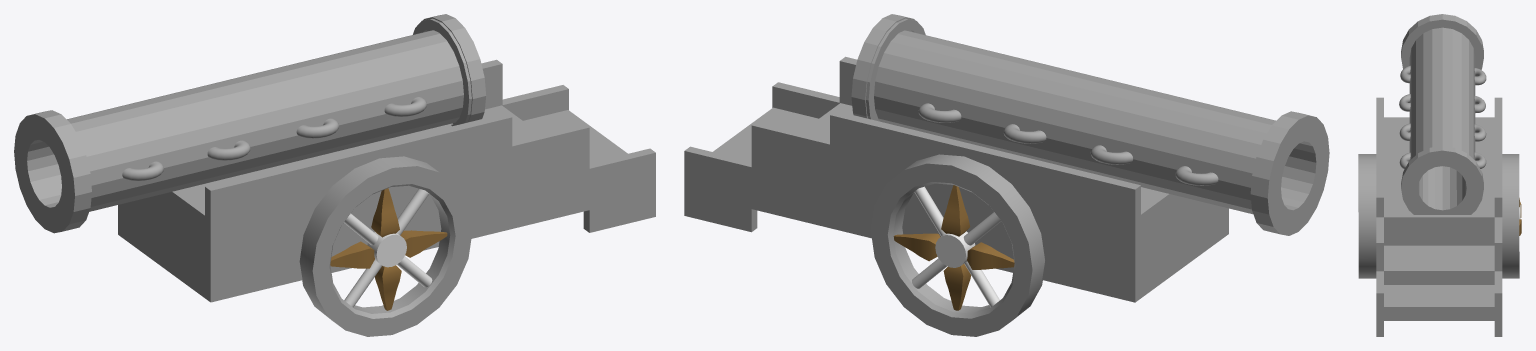
Rendered from Meriam.fbx.
3 views of the same model, side by side, from view 1: azimuth 30°, elevation 25°; view 2: azimuth 150°, elevation 25°; view 3: azimuth 270°, elevation 25° (orthographic). The views are drawn at different scales.
Visible parts, largest first — view 1: pCube1, pPipe1, pPipe4, pPipe2, pCube2, pCube5, pCube6, pCube3, pPipe9, pTorus7, pTorus6, pPipe5 (+2 smaller); view 2: pCube1, pPipe1, pPipe11, pPipe12, pCube7, pCube10, pCube9, pCube8, pTorus1, pTorus3, pTorus4, pPipe13 (+3 smaller); view 3: pCube1, pPipe1, pPipe4, pPipe11, pTorus1, pTorus7, pTorus3, pTorus6, pTorus2, pTorus8, pTorus4.
Part boxes in pixels (bbox=[...]): pCube1: bbox=[118, 59, 655, 302]; pPipe1: bbox=[14, 14, 486, 233]; pPipe4: bbox=[299, 156, 472, 336]; pPipe2: bbox=[367, 232, 406, 267]; pCube2: bbox=[371, 188, 399, 237]; pCube5: bbox=[330, 241, 374, 268]; pCube6: bbox=[375, 265, 401, 310]; pCube3: bbox=[400, 230, 447, 257]; pPipe9: bbox=[344, 260, 381, 307]; pTorus7: bbox=[207, 140, 250, 160]; pTorus6: bbox=[296, 118, 338, 138]; pPipe5: bbox=[397, 188, 428, 235]; pCube1: bbox=[684, 56, 1228, 302]; pPipe1: bbox=[851, 14, 1329, 235]; pPipe11: bbox=[870, 154, 1044, 336]; pPipe12: bbox=[935, 231, 975, 267]; pCube7: bbox=[941, 185, 970, 236]; pCube10: bbox=[967, 242, 1014, 269]; pCube9: bbox=[893, 233, 940, 261]; pCube8: bbox=[943, 264, 971, 310]; pTorus1: bbox=[1175, 166, 1218, 185]; pTorus3: bbox=[1003, 124, 1046, 143]; pTorus4: bbox=[918, 103, 961, 122]; pPipe13: bbox=[914, 186, 945, 236]; pCube1: bbox=[1376, 97, 1502, 336]; pPipe1: bbox=[1401, 14, 1483, 214]; pPipe4: bbox=[1358, 154, 1376, 278]; pPipe11: bbox=[1502, 154, 1519, 278]; pTorus1: bbox=[1474, 68, 1486, 85]; pTorus7: bbox=[1399, 94, 1410, 111]; pTorus3: bbox=[1474, 124, 1486, 141]; pTorus6: bbox=[1399, 123, 1410, 140]; pTorus2: bbox=[1474, 96, 1485, 112]; pTorus8: bbox=[1400, 65, 1410, 83]; pTorus4: bbox=[1474, 152, 1486, 168].
Size of the model in its own units: 10.13 by 4.15 by 3.74.
